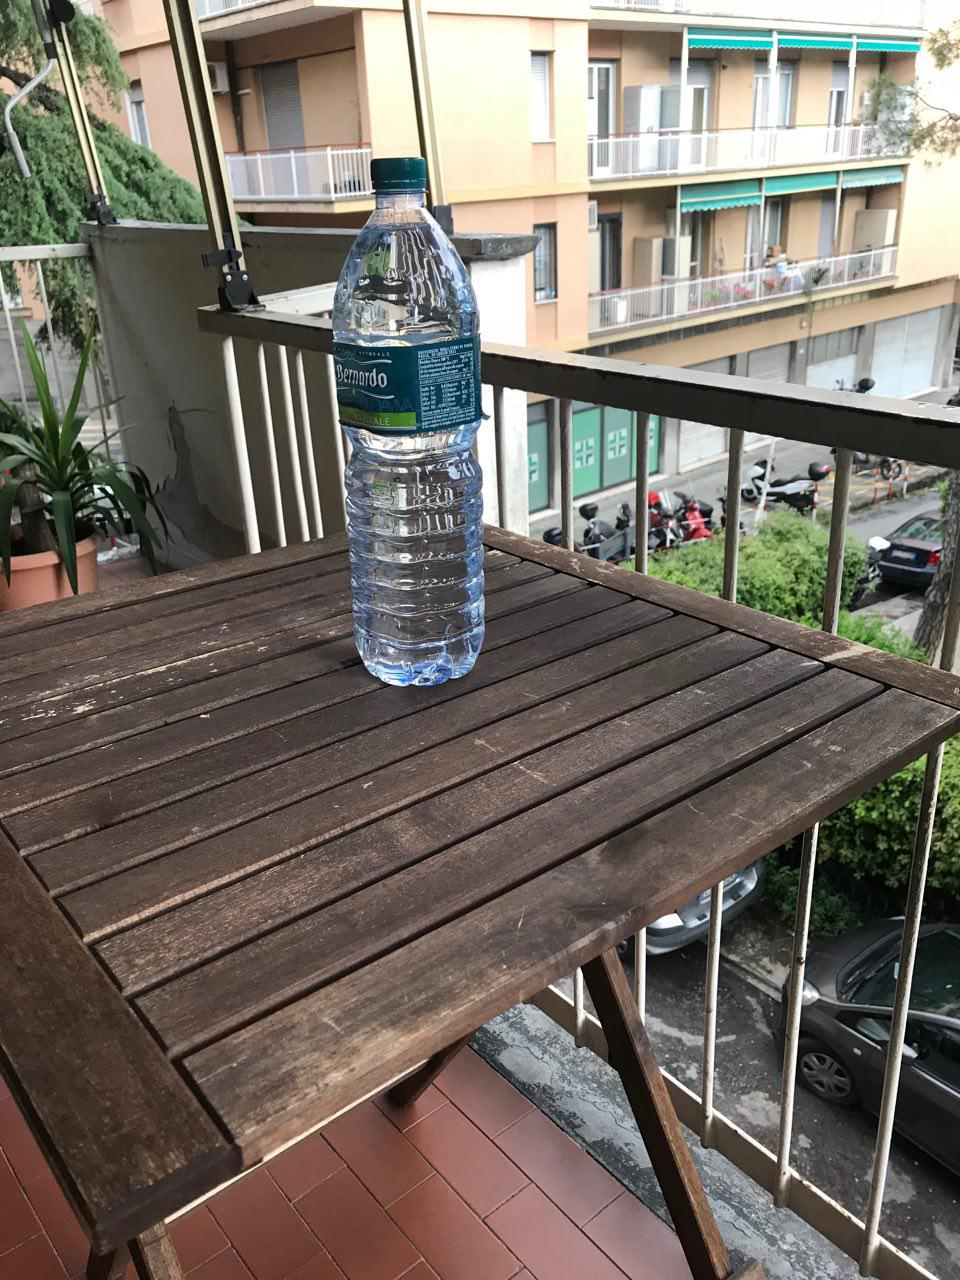san_bernardo: (330, 155, 485, 687)
